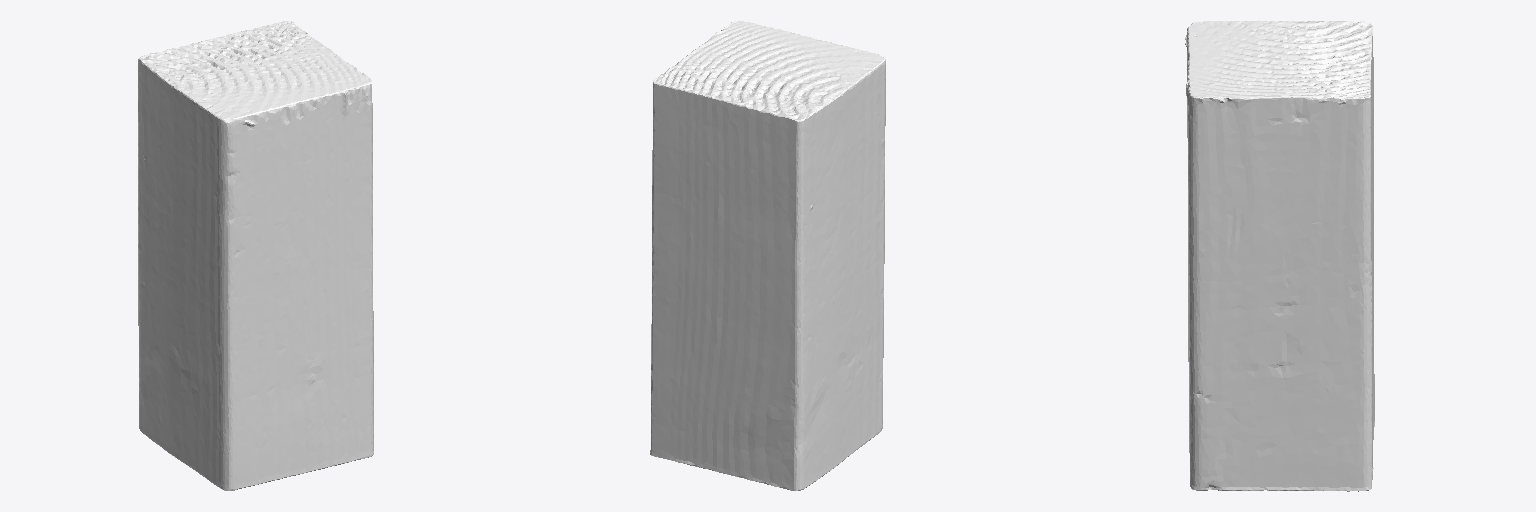
URDF robot description (flat_screwdriver):
<robot name="flat_screwdriver">
	<link name="base_link">
		<visual>
			<origin xyz="-0.023228351441964463 0.02270556071884342 -0.016179821688211804" rpy="0.0 0.0 0.0" />
			<geometry>
				<mesh filename="044_flat_screwdriver/google_16k/textured.obj" scale="1 1 1" />
			</geometry>
			<material name="texture">
				<color rgba="1.0 1.0 1.0 1.0" />
			</material>
		</visual>
		<collision>
			<origin xyz="-0.023228351441964463 0.02270556071884342 -0.016179821688211804" rpy="0.0 0.0 0.0" />
			<geometry>
				<mesh filename="044_flat_screwdriver/google_16k/textured_vhacd.obj" scale="1 1 1" />
			</geometry>
		</collision>
		<inertial>
			<mass value="0.0984" />
			<inertia ixx="1e-3" ixy="0.0" ixz="0.0" iyy="1e-3" iyz="0.0" izz="1e-3" />
		</inertial>
	</link>
</robot>

--- What the picture shows (computed from the rendered views, not written in the file) ---
3 views of the same robot in one strip: view 1: azimuth 30°, elevation 25°; view 2: azimuth 150°, elevation 25°; view 3: azimuth 270°, elevation 25° (orthographic).
Model flat_screwdriver with 1 links and 0 joints (none), rooted at base_link, posed all joints at 0.
Visible links, largest first — view 1: base_link; view 2: base_link; view 3: base_link.
Link boxes in pixels (bbox=[...]): base_link: bbox=[138, 21, 373, 490]; base_link: bbox=[650, 21, 885, 490]; base_link: bbox=[1185, 20, 1374, 491].
Size in the robot's own frame: 0.0906 by 0.0899 by 0.206 metres.
1 mesh visuals loaded from 1 distinct referenced files (1 OBJ).